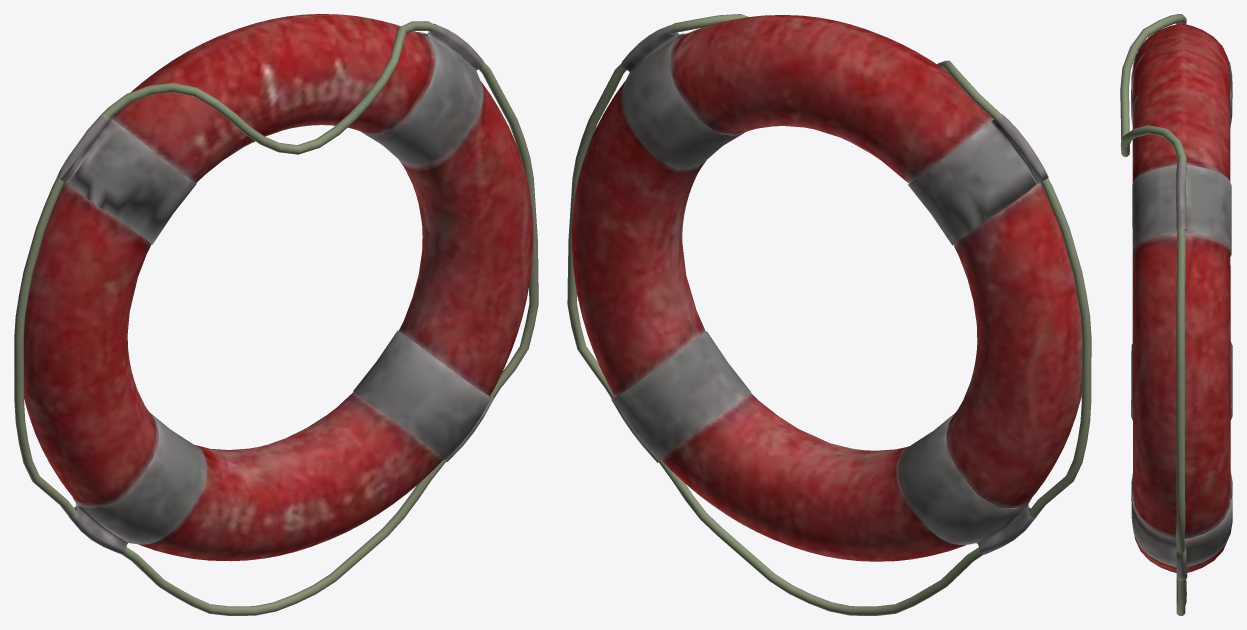
Rendered from lifebuoy.glb.
3 views of the same model, side by side, from view 1: azimuth 30°, elevation 25°; view 2: azimuth 150°, elevation 25°; view 3: azimuth 270°, elevation 25° (orthographic). The views are drawn at different scales.
Parts seen in each view (by area): view 1: lifebuoy; view 2: lifebuoy; view 3: lifebuoy.
Boxes of the visible parts, x1=… form: lifebuoy: x1=14, y1=14, x2=538, y2=615; lifebuoy: x1=567, y1=14, x2=1091, y2=615; lifebuoy: x1=1120, y1=14, x2=1232, y2=615.
Bounding box in the file's own units: 0.783 × 0.8412 × 0.1548.
Materials: 1 (1 with a texture image).
